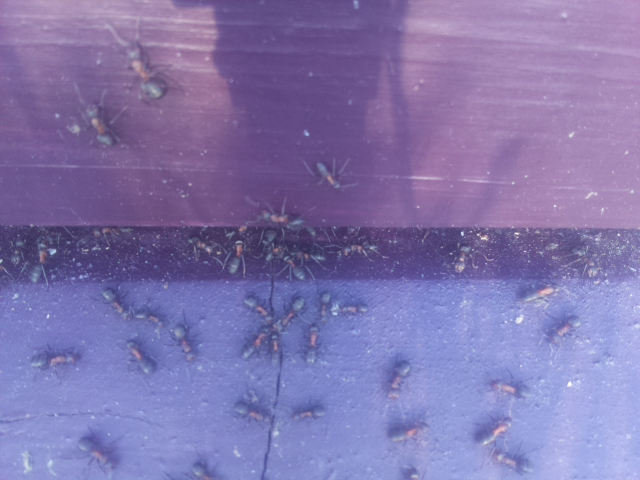ant: (73, 88, 121, 154), (257, 232, 313, 286), (121, 41, 167, 101), (235, 285, 283, 336), (70, 429, 121, 473), (235, 318, 278, 368), (382, 352, 418, 407), (94, 279, 138, 324), (167, 317, 203, 368), (273, 289, 308, 339), (382, 418, 435, 449), (474, 412, 517, 450), (220, 233, 252, 284), (29, 235, 59, 289), (252, 205, 310, 232), (123, 334, 157, 380), (227, 396, 274, 428), (299, 319, 326, 374), (27, 347, 84, 372), (310, 158, 347, 194), (487, 449, 536, 474), (184, 458, 235, 480), (550, 311, 582, 340), (383, 460, 425, 480), (452, 241, 479, 271)
